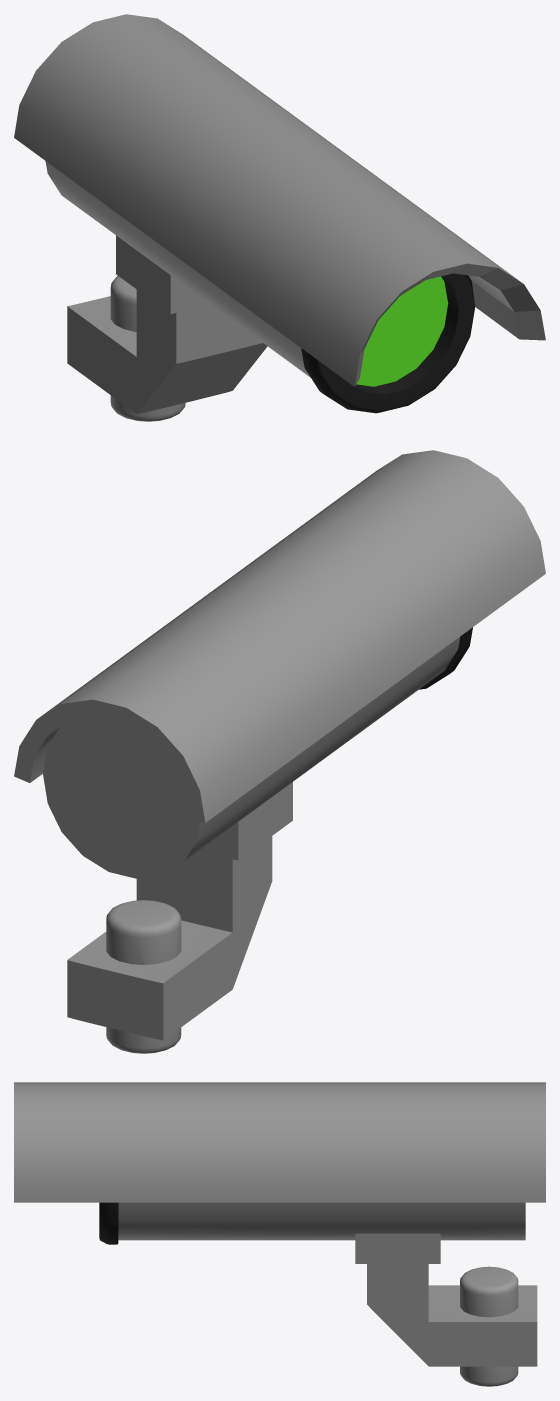
The model's file is cameravigilation.fbx.
The picture shows the model from 3 angles, top to bottom: view 1: azimuth 30°, elevation 25°; view 2: azimuth 150°, elevation 25°; view 3: azimuth 270°, elevation 25°; orthographic projection. The views are drawn at different scales.
Parts seen in each view (by area): view 1: Cylinder004; view 2: Cylinder004; view 3: Cylinder004.
Part boxes in pixels (<box>): Cylinder004: <box>14,14,545,421</box>; Cylinder004: <box>14,450,545,1053</box>; Cylinder004: <box>14,1082,545,1386</box>.
Size of the model in its own units: 23.65 by 43.01 by 72.96.
